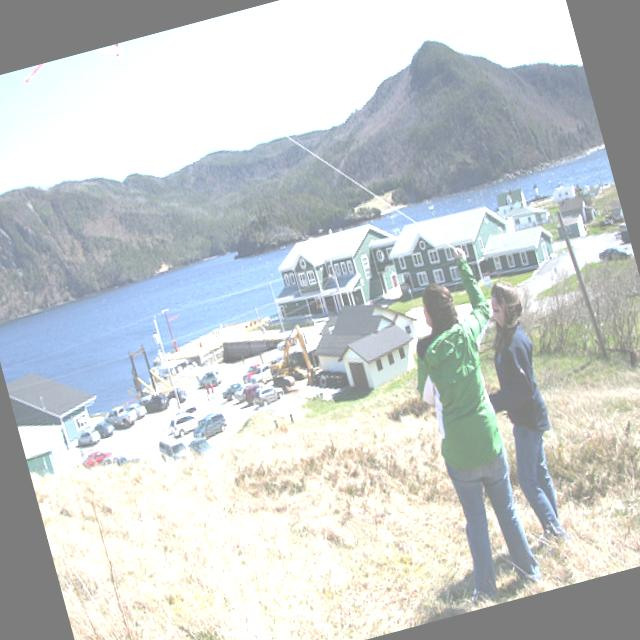Vehicle: (88, 218, 640, 487), (187, 408, 230, 440), (252, 380, 286, 408), (79, 446, 117, 471), (596, 242, 632, 266), (186, 433, 217, 459), (90, 417, 118, 441), (232, 381, 258, 404), (75, 427, 102, 449), (172, 402, 201, 422), (196, 369, 223, 389), (124, 398, 148, 419), (220, 382, 244, 402), (164, 386, 187, 404)
